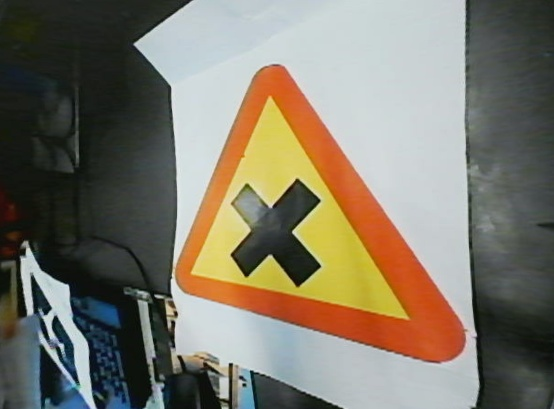junction: (156, 60, 471, 368)
